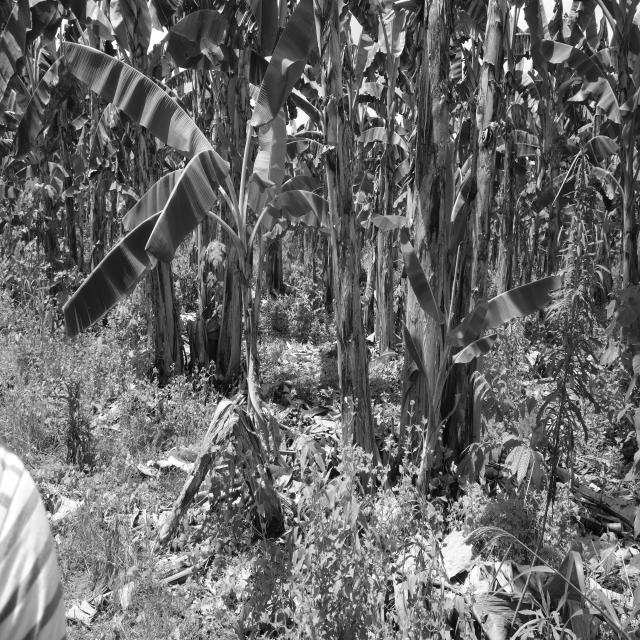Banana-plant: (306, 11, 384, 492), (110, 5, 180, 379), (400, 4, 455, 477), (457, 0, 510, 483), (210, 27, 258, 396), (373, 0, 403, 368), (611, 74, 640, 371)
